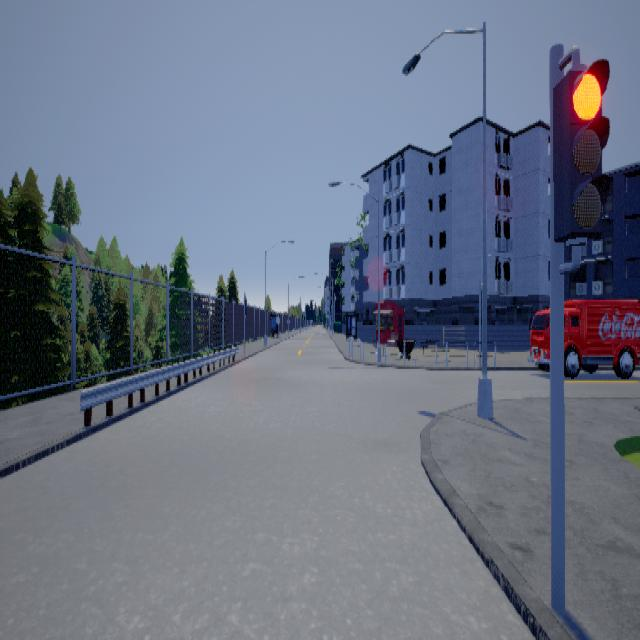red_light: (552, 44, 610, 273)
vehicle: (527, 298, 639, 377)
